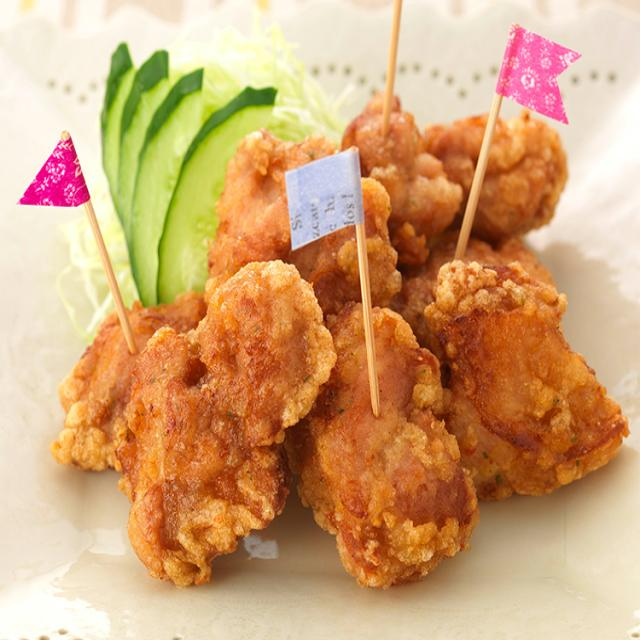Frango: (47, 94, 631, 595)
